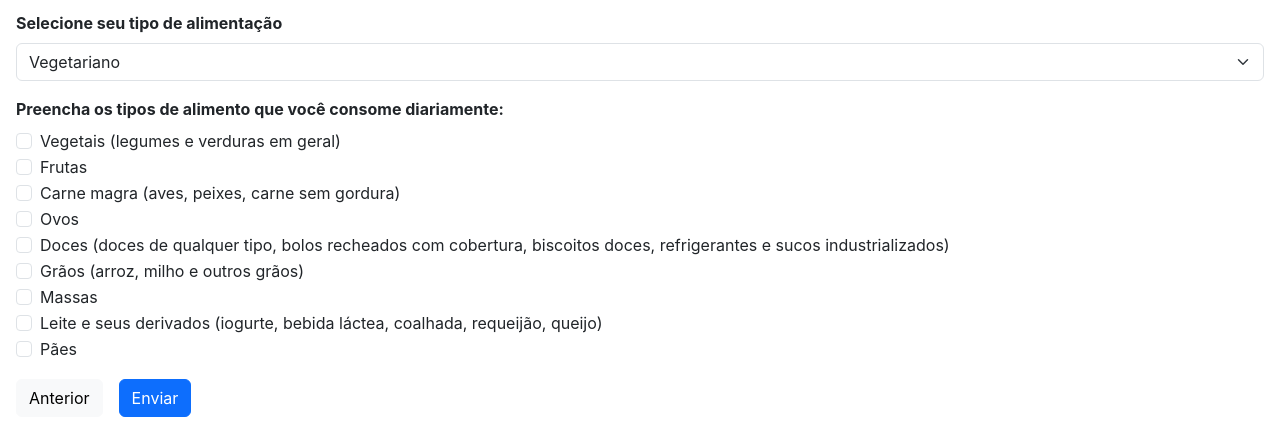
Test: should display the vegan food items
This screenshot has width=1280, height=434.
Select "Vegano" in the dropdown with test id "diet-select" at [640, 62], box left=16, top=43, right=1264, bottom=81
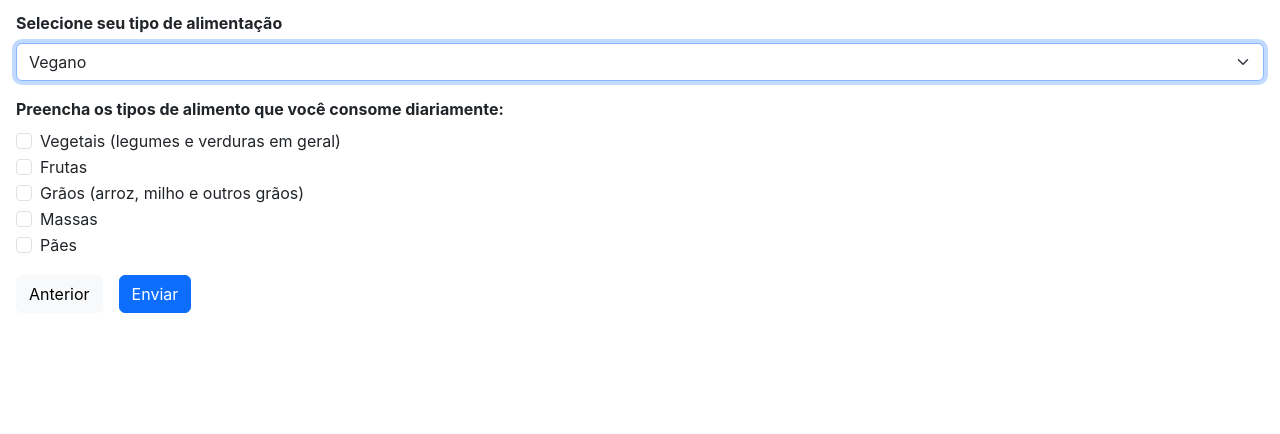
Check: the element showing "Grãos (arroz, milho e outros grãos)" is shown, box left=16, top=183, right=304, bottom=203
Check: the element showing "Massas" is shown, box left=16, top=209, right=98, bottom=229
Check: the element showing "Pães" is shown, box left=16, top=235, right=77, bottom=255
